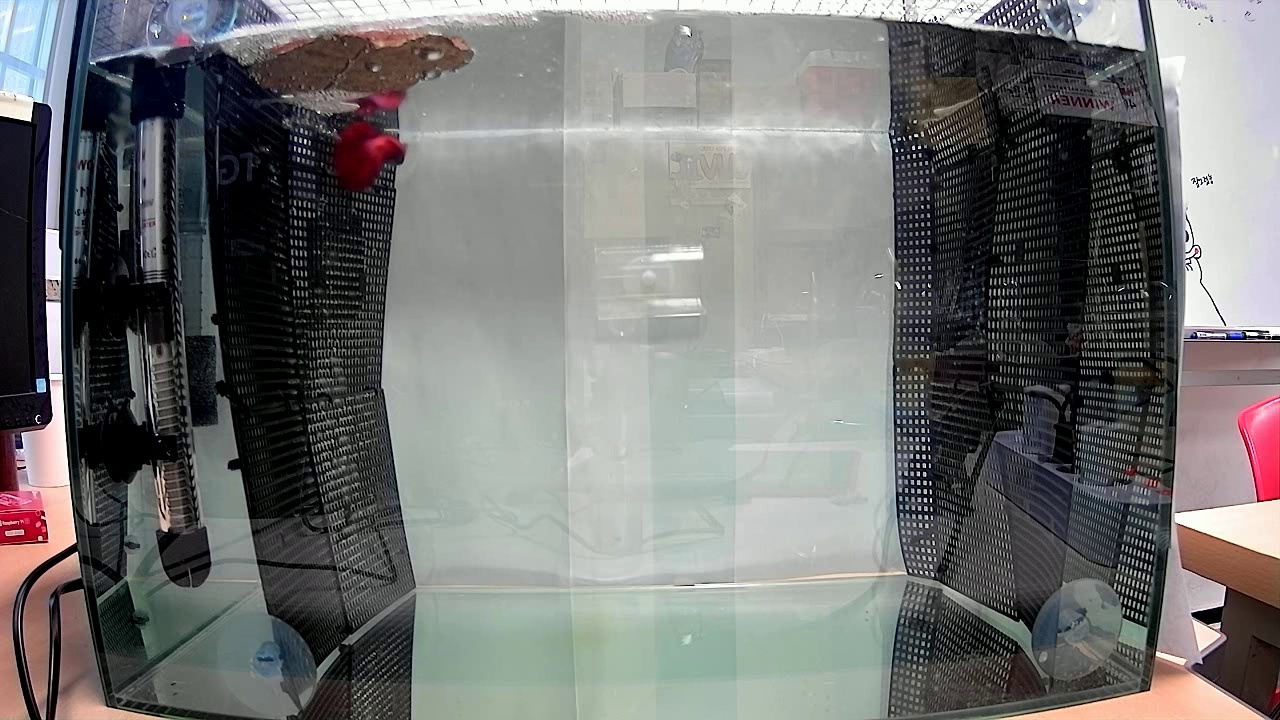fish: (332, 118, 412, 191)
